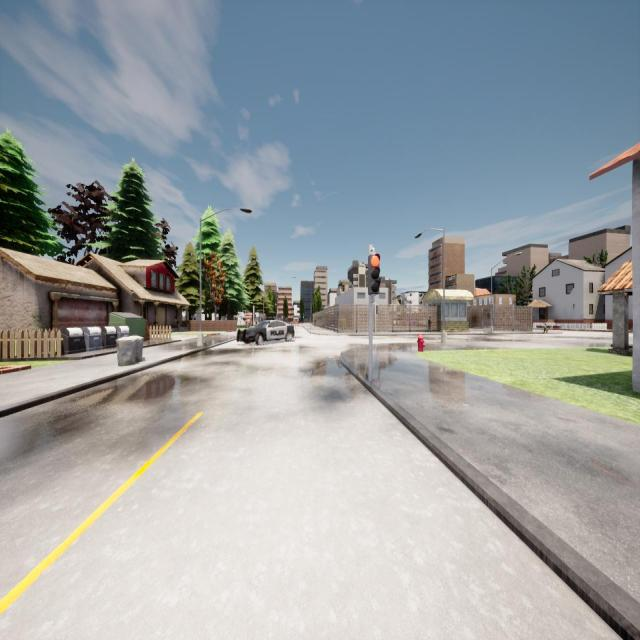Pedestrian: (428, 316, 432, 332), (544, 323, 547, 334)
Vehicle: (238, 320, 294, 344)
traffic_light: (369, 255, 379, 294), (376, 305, 378, 314)
